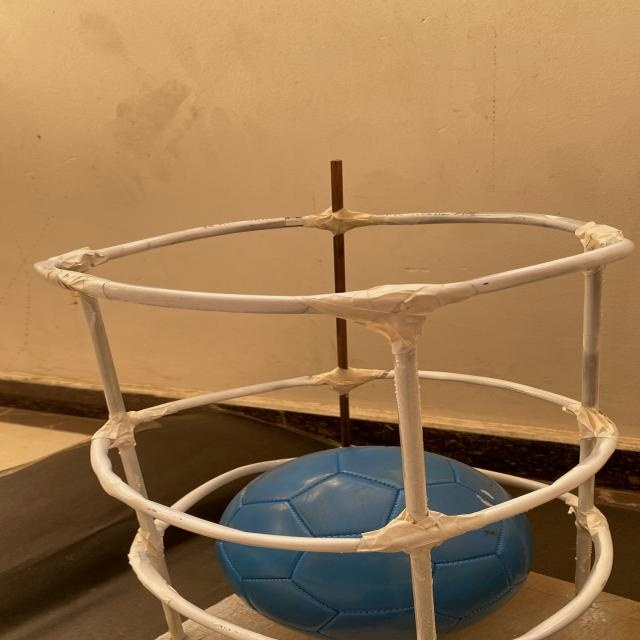blue_ball: (226, 445, 532, 629)
silo: (51, 173, 640, 640)
